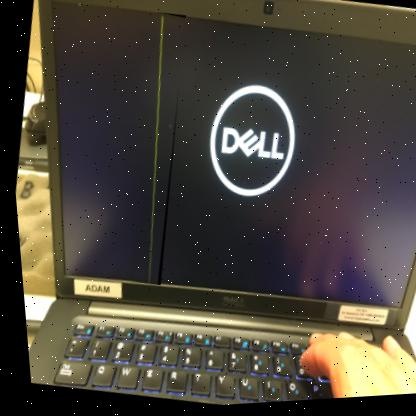lines: (108, 12, 203, 290)
